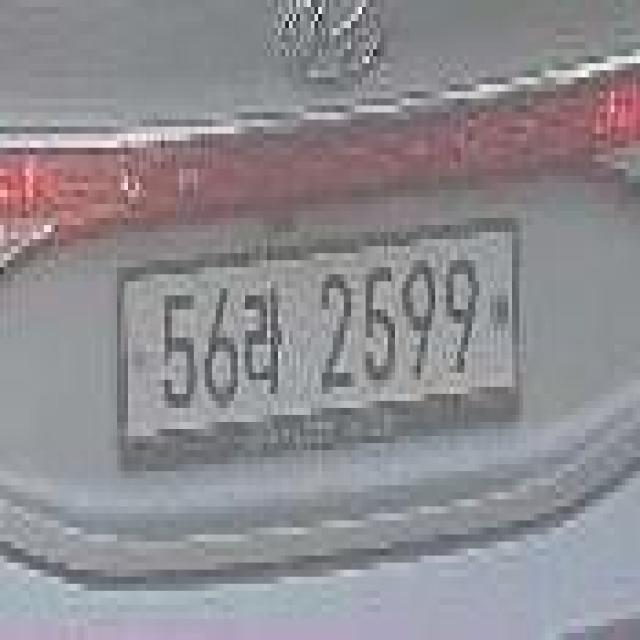illegal_plate: (113, 226, 530, 466)
